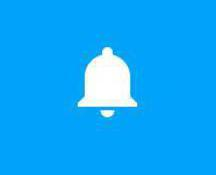ImgButton: (1, 1, 215, 174)
